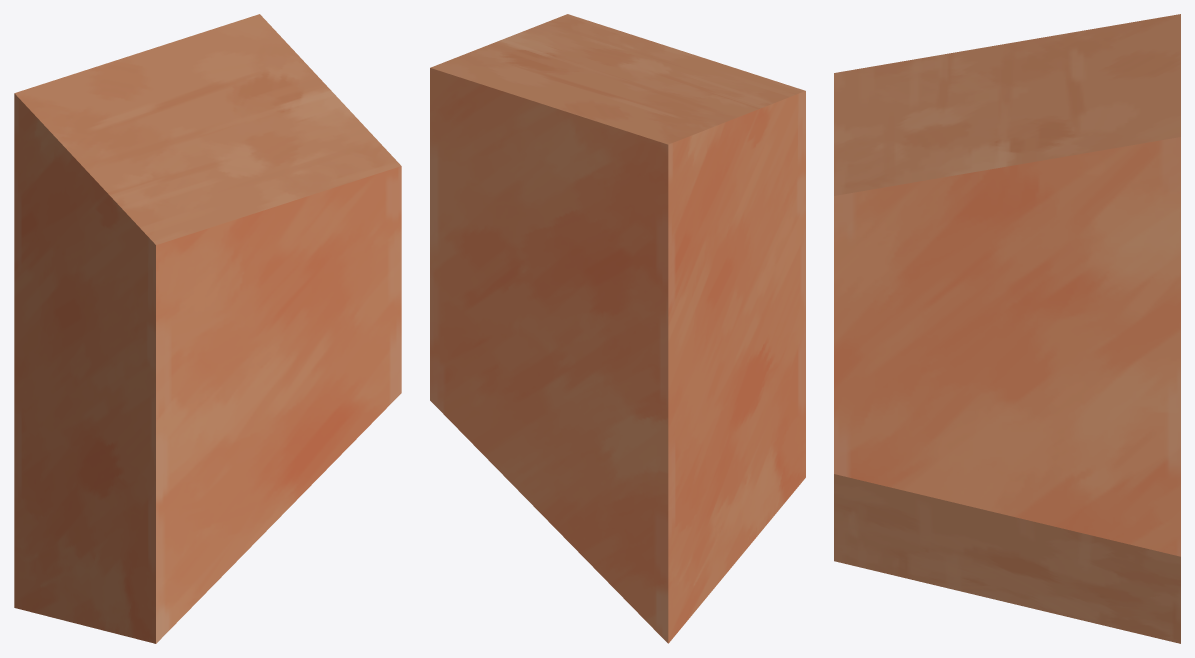
The model's file is corner2_s01.fbx.
The picture shows the model from 3 angles, left to right: view 1: azimuth 30°, elevation 25°; view 2: azimuth 150°, elevation 25°; view 3: azimuth 270°, elevation 25°; orthographic projection. The views are drawn at different scales.
Visible parts, largest first — view 1: corner2_s01; view 2: corner2_s01; view 3: corner2_s01.
Boxes of the visible parts, bbox=[...] form: corner2_s01: bbox=[14, 14, 401, 643]; corner2_s01: bbox=[430, 14, 805, 643]; corner2_s01: bbox=[834, 14, 1180, 643].
Size of the model in its own units: 1.6 by 3.33 by 1.6.
